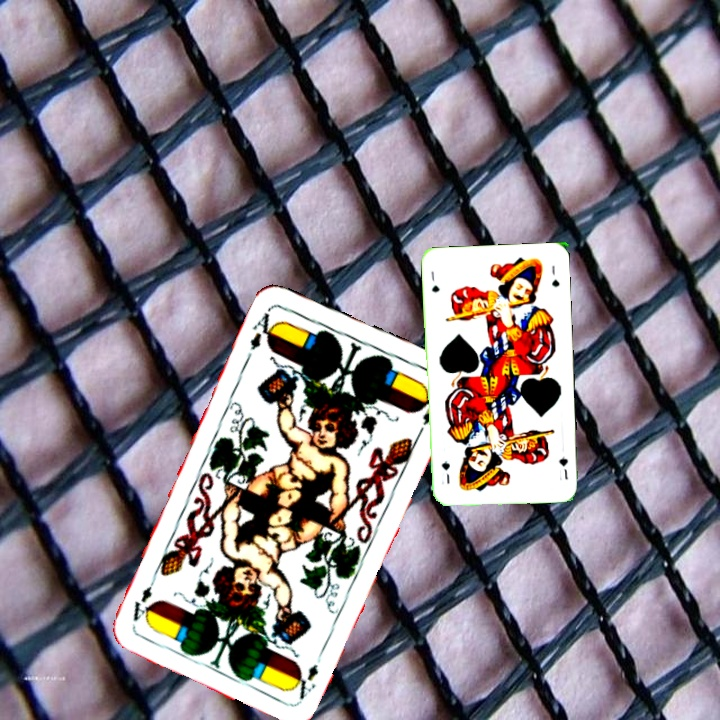EA: (294, 646, 327, 702), (245, 306, 279, 353)
GU: (554, 452, 570, 482), (427, 267, 442, 295)
